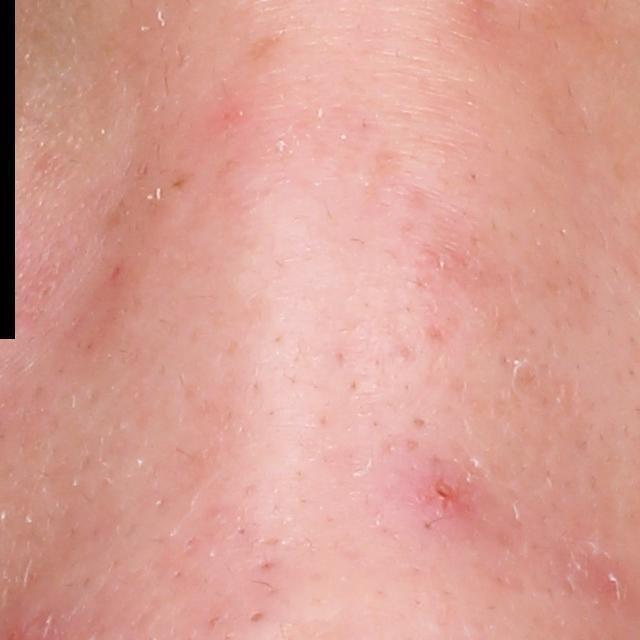comedo: (244, 609, 269, 630)
papule: (398, 464, 486, 529)
